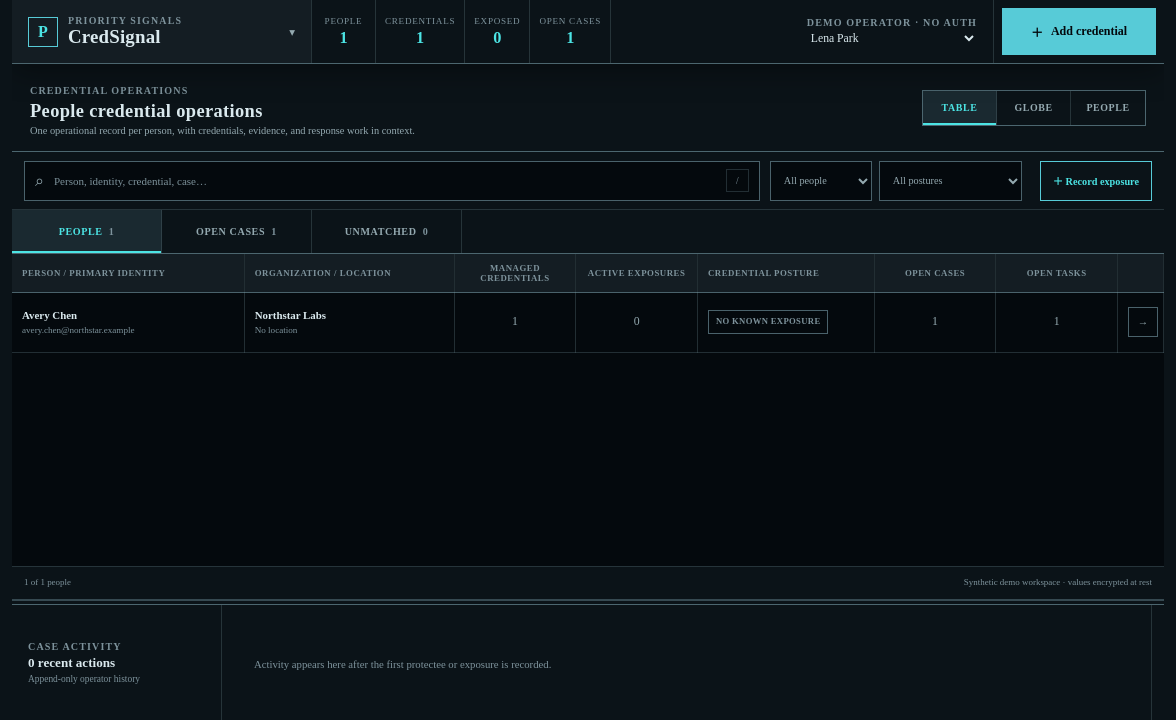
Test: CredSignal inventory workspace › opens a case queue item in the person dossier
Click the tab "Unmatched 0" at (387, 232), box 312,210 -> 462,253
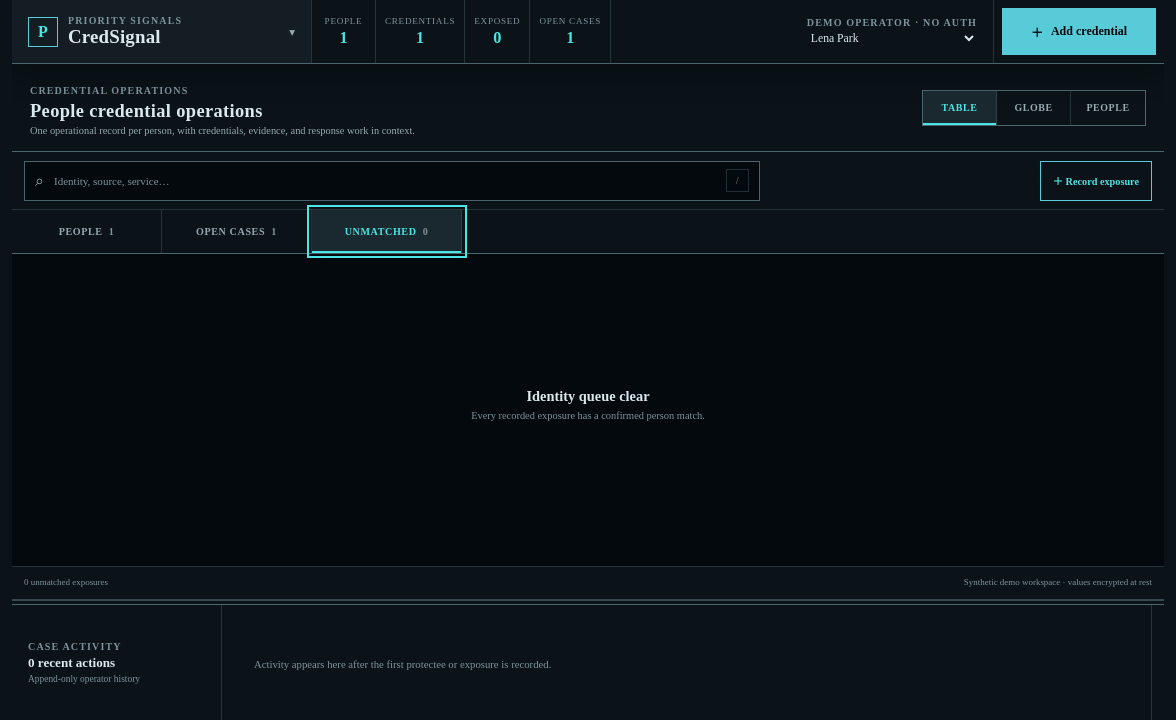
Now the text "Identity queue clear" is shown, box 526,388 -> 650,404
Click the tab "Open cases 1" at (237, 232), box 162,210 -> 312,253
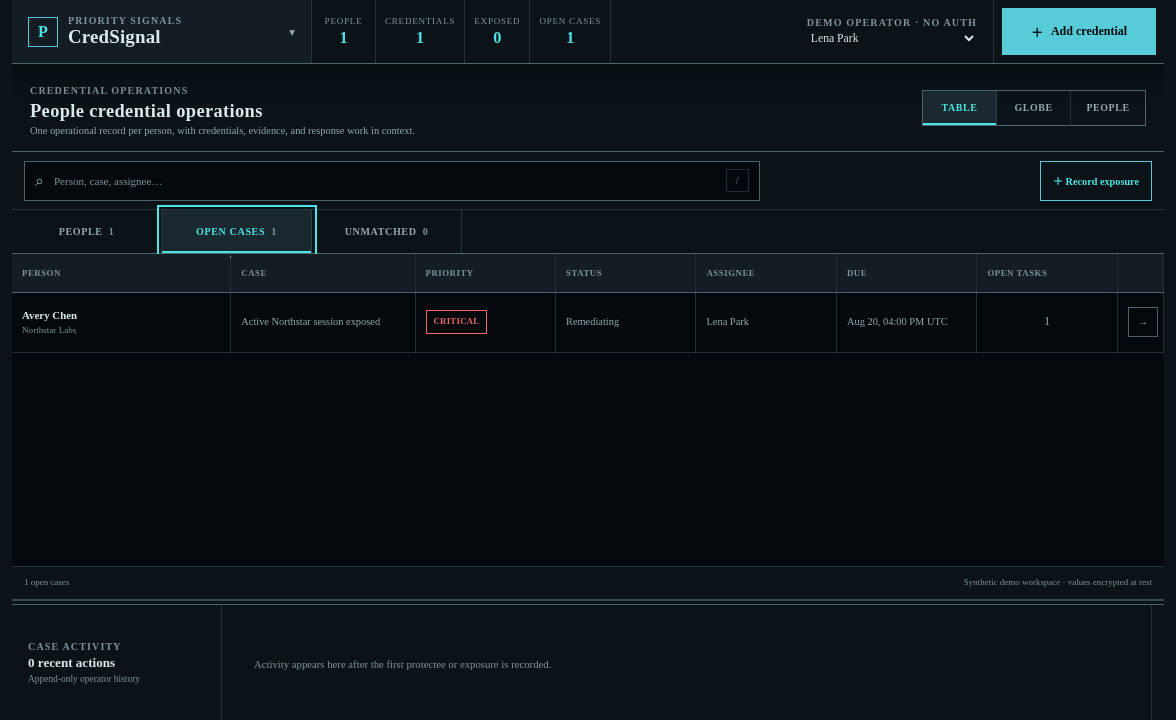
Click the button named "Open case for Avery Chen" at (1143, 322), box 1128,307 -> 1158,337
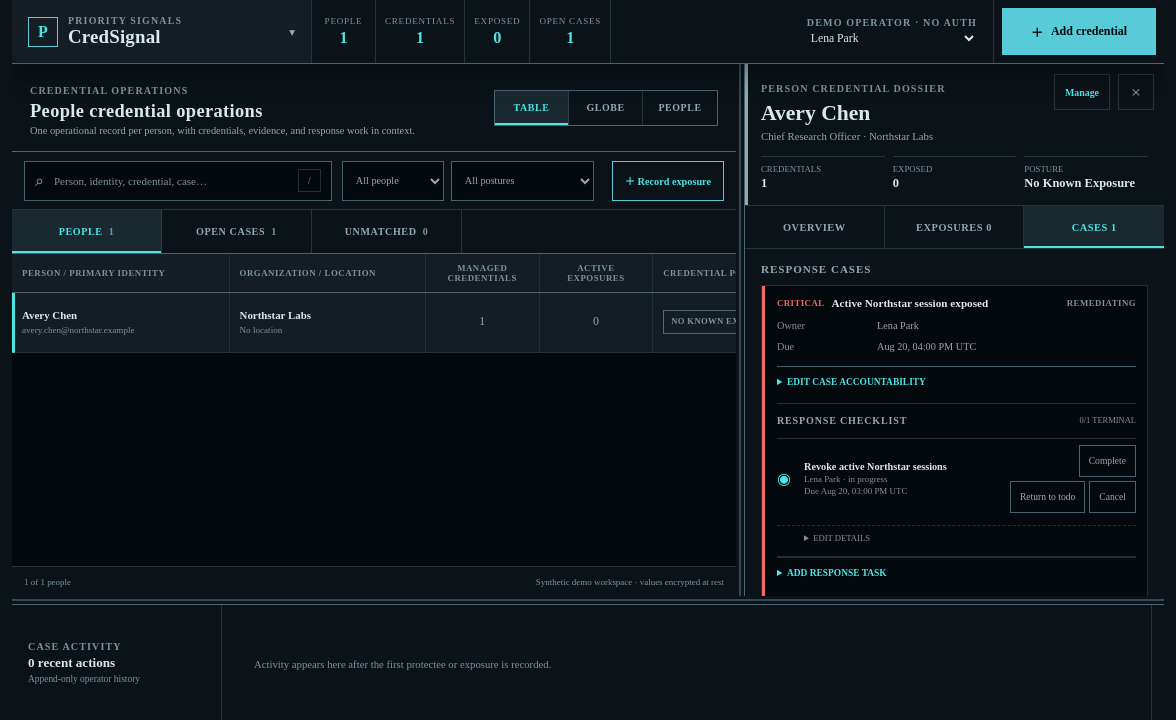
Now the element named "Avery Chen credential dossier" is shown, box 744,64 -> 1164,596
Now the heading "Response checklist" is shown, box 777,415 -> 907,426
